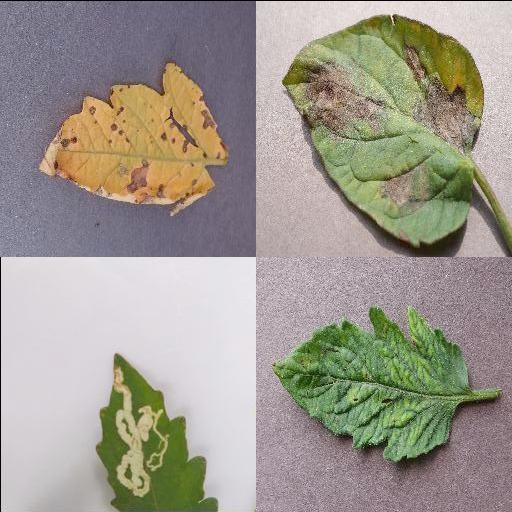Late Blight: (281, 11, 485, 245)
Leaf Miner: (94, 353, 219, 512)
Mosaic Virus: (270, 303, 470, 461)
Septoria: (38, 61, 232, 213)
